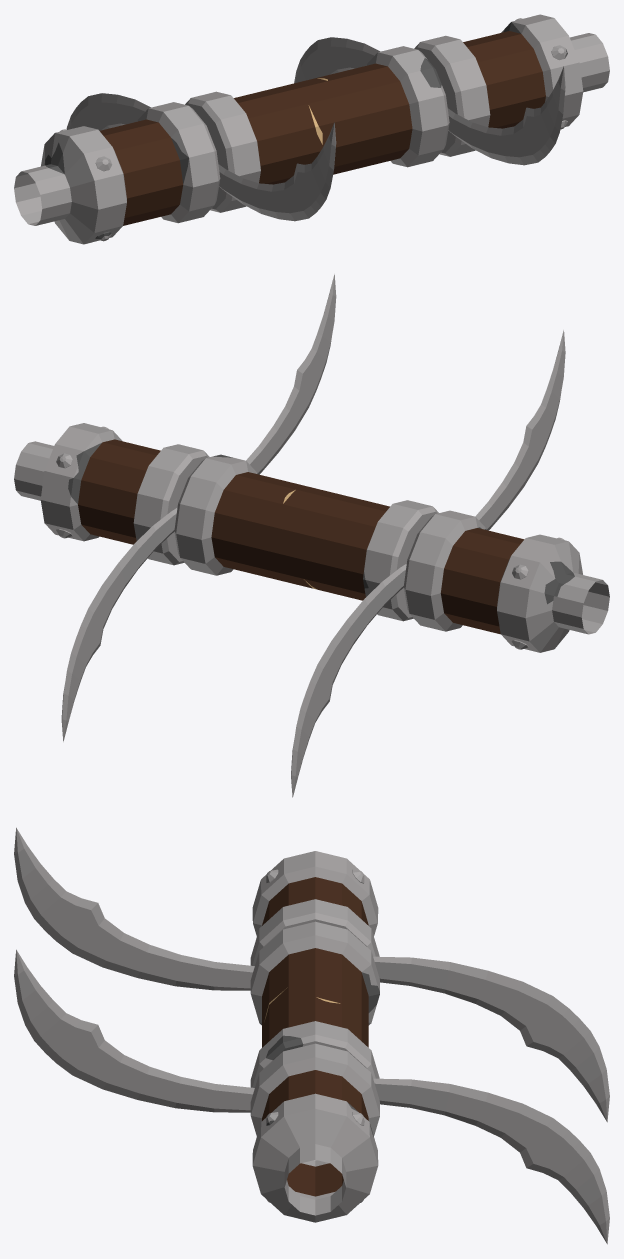
The model's file is H_SpinningBladeB.fbx.
The picture shows the model from 3 angles, top to bottom: view 1: azimuth 30°, elevation 25°; view 2: azimuth 150°, elevation 25°; view 3: azimuth 270°, elevation 25°; orthographic projection. The views are drawn at different scales.
Parts seen in each view (by area): view 1: H_SpinningBladeB; view 2: H_SpinningBladeB; view 3: H_SpinningBladeB.
Part boxes in pixels (x1=…): H_SpinningBladeB: x1=14, y1=14, x2=609, y2=244; H_SpinningBladeB: x1=14, y1=274, x2=609, y2=797; H_SpinningBladeB: x1=14, y1=827, x2=609, y2=1244.
Bounding box in the file's own units: 545 × 249 × 455.
